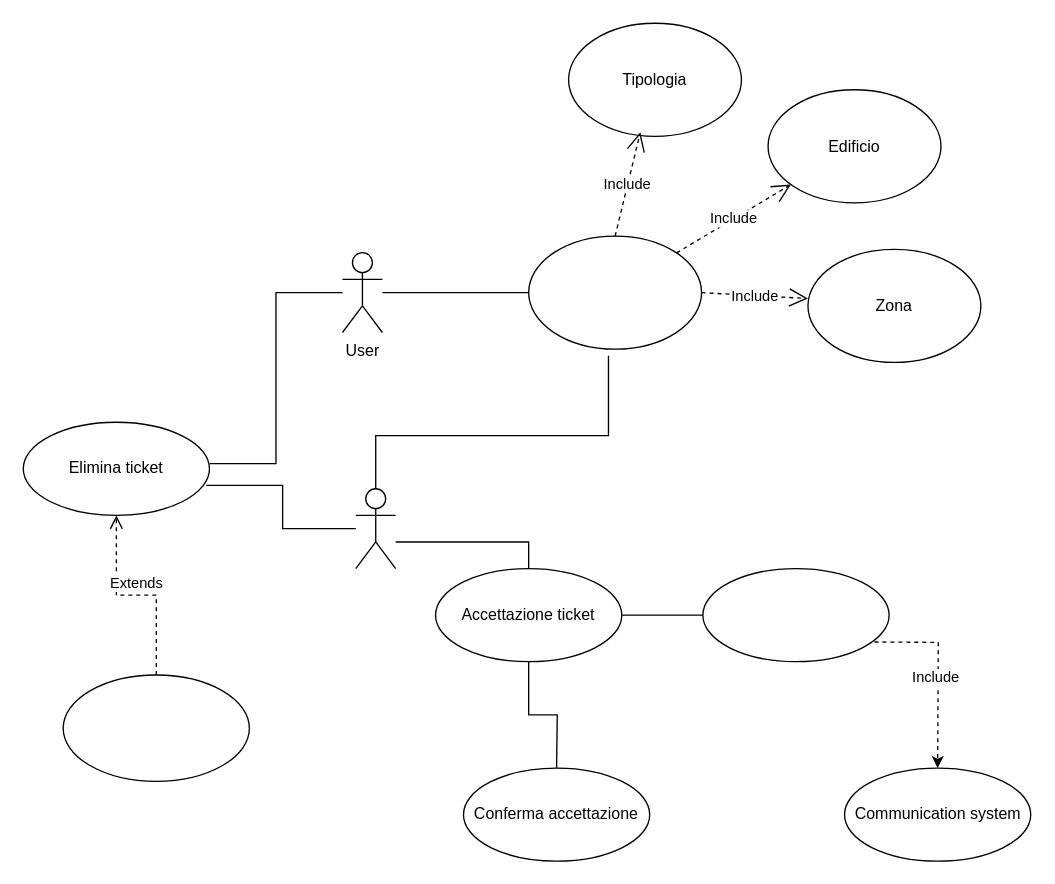
Some shapes in this 1055 by 884 pixel diagram are drawn without their labels. Each missing label, with the box of its shape:
Check se ticket non è accettato o programmato: (62, 674, 249, 781)
Chiedere maggiori info: (702, 567, 889, 662)
Creare ticket: (527, 235, 702, 349)
Tecnico: (354, 487, 396, 569)
